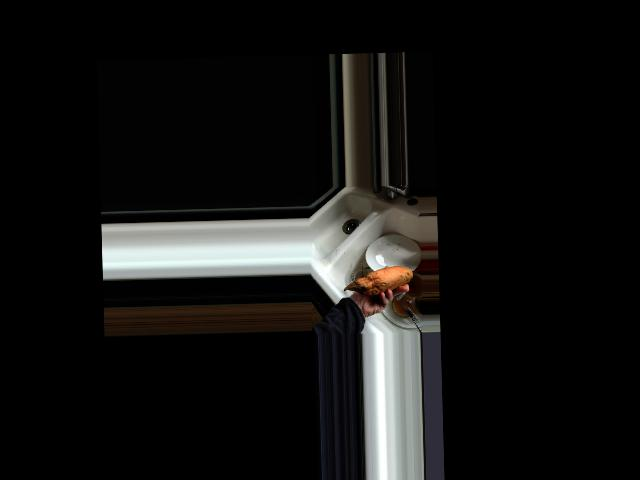sweet_potato: (342, 263, 413, 296)
